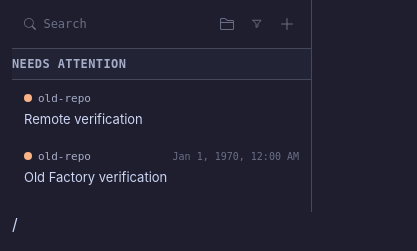
Test: reveals the other owner when normal nesting drops one of two unpinned same-id rows
Expected: the text "Old Factory verification" is shown once, [24, 168, 167, 184]
Expected: the text "Remote verification" is shown once, [24, 110, 143, 126]
Click the button "old-repo Remote verification": [83, 109] box [24, 92, 143, 126]
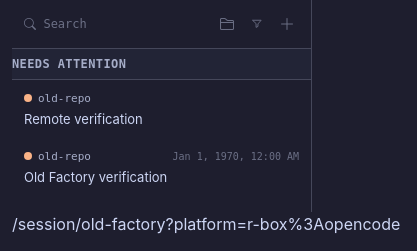
Expected: the text named "Location" reads "/session/old-factory?platform=r-box%3Aopencode", [12, 214, 400, 234]
